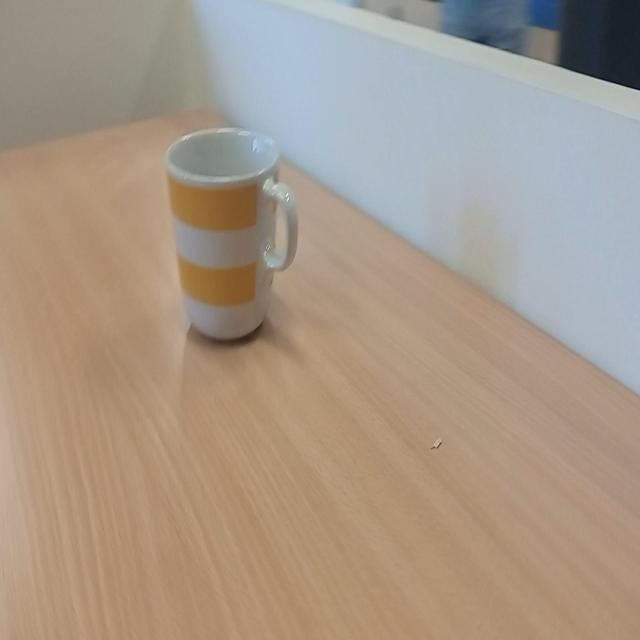cup: (165, 126, 298, 347)
